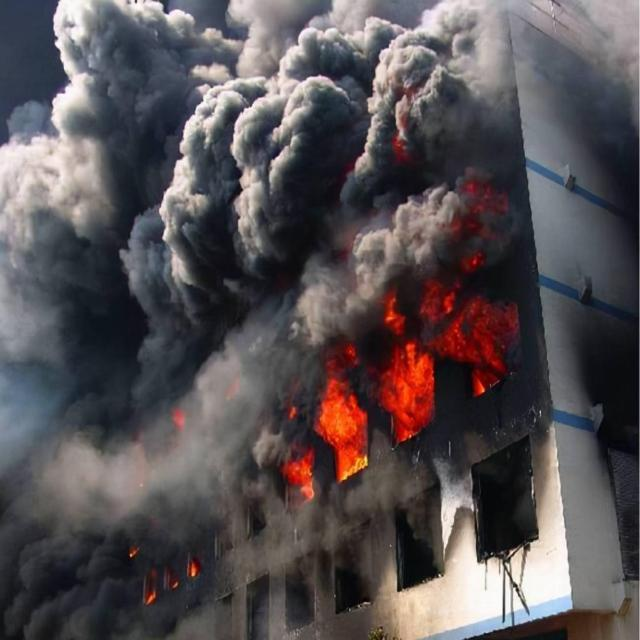Fire: (416, 274, 518, 376), (378, 293, 432, 442), (313, 361, 368, 476), (280, 445, 313, 490)
Smoke: (1, 0, 292, 542), (290, 0, 522, 259)
